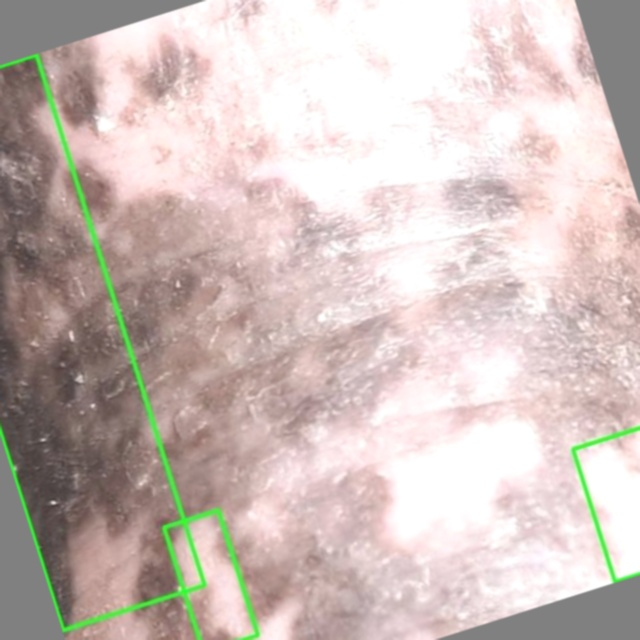Eczema: (0, 54, 204, 630), (163, 510, 257, 639)
